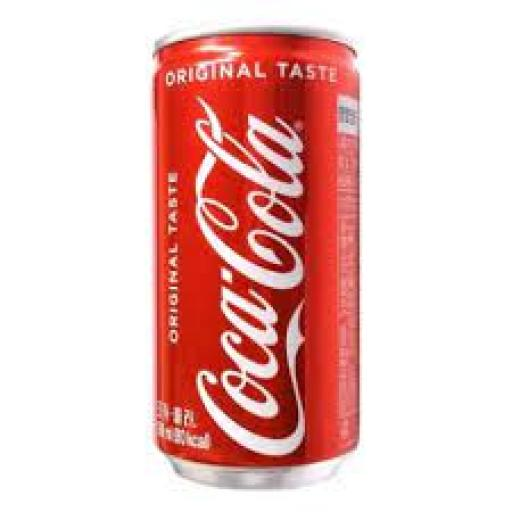Coca: (148, 24, 363, 497)
